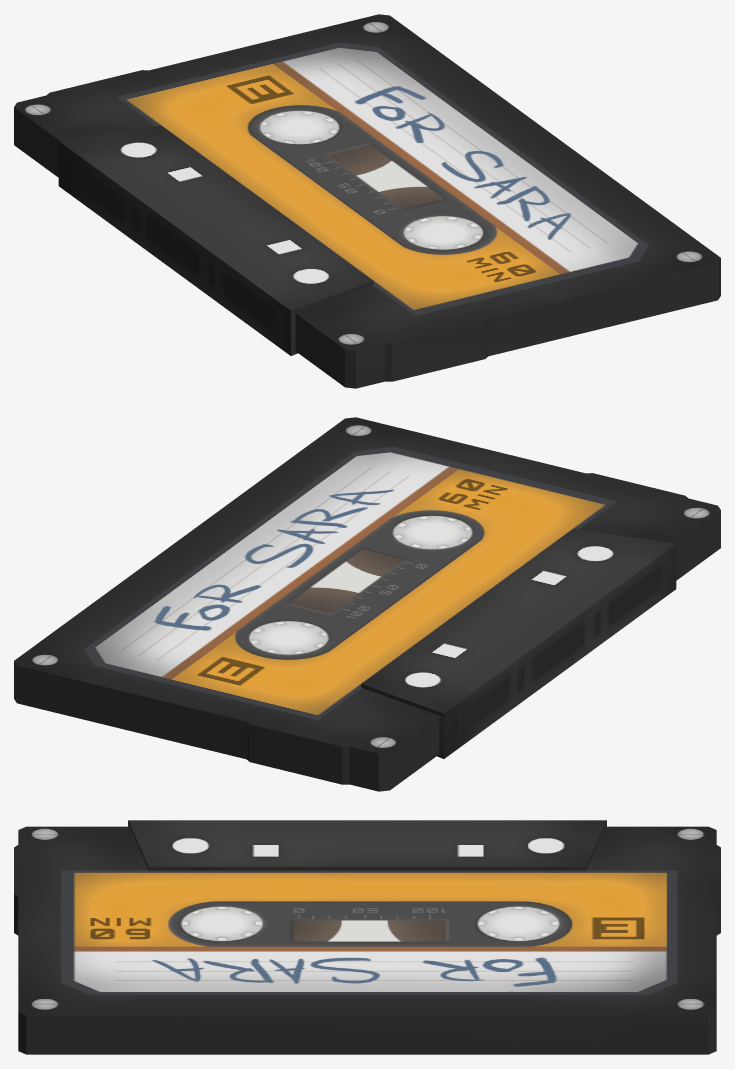
File: CassetteTape.FBX
3 views of the same model, one above another, from view 1: azimuth 30°, elevation 25°; view 2: azimuth 150°, elevation 25°; view 3: azimuth 270°, elevation 25° (orthographic). The views are drawn at different scales.
Visible parts, largest first — view 1: CassetteTape; view 2: CassetteTape; view 3: CassetteTape.
Boxes of the visible parts, x1=… form: CassetteTape: x1=14, y1=14, x2=720, y2=388; CassetteTape: x1=14, y1=417, x2=720, y2=791; CassetteTape: x1=14, y1=820, x2=720, y2=1054.
Size of the model in its own units: 17.44 by 1.98 by 27.23.
